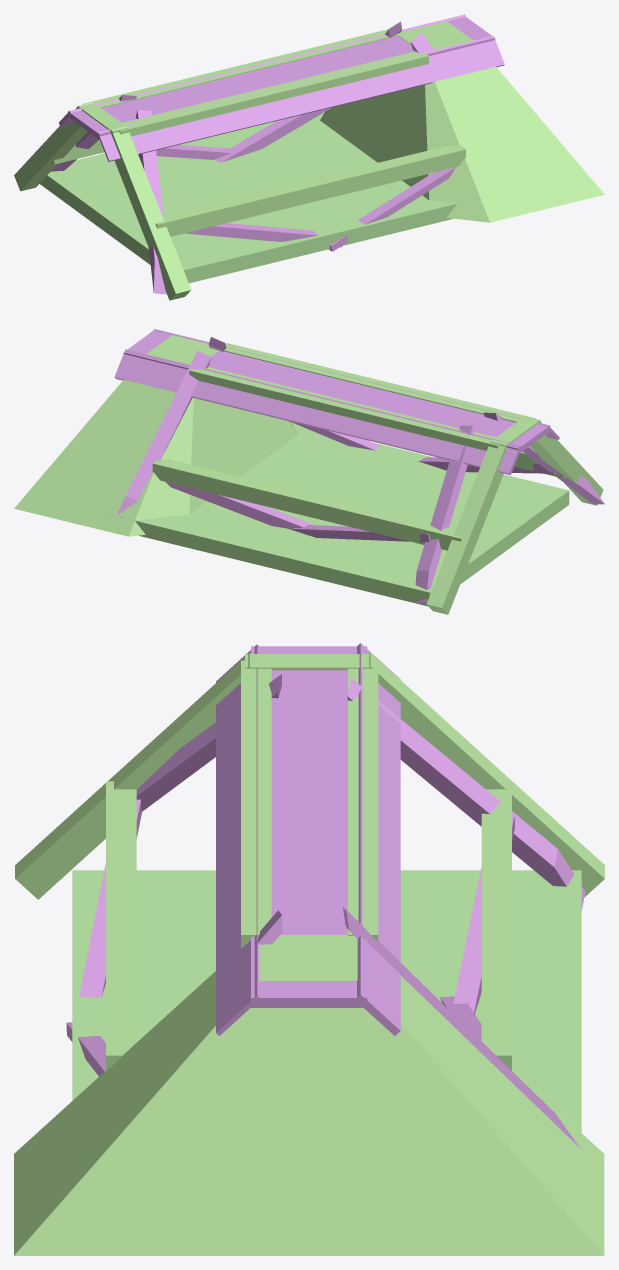
The model's file is camonettent.glb.
3 views of the same model, one above another, from view 1: azimuth 30°, elevation 25°; view 2: azimuth 150°, elevation 25°; view 3: azimuth 270°, elevation 25° (orthographic). The views are drawn at different scales.
Parts seen in each view (by area): view 1: S4|SM_CamoNetTent_Stage4#0, S2|SM_CamoNetTent_Stage2#0, S5|SM_CamoNetTent_Stage5#0, S3|SM_CamoNetTent_Stage3#0; view 2: S4|SM_CamoNetTent_Stage4#0, S2|SM_CamoNetTent_Stage2#0, S5|SM_CamoNetTent_Stage5#0, S3|SM_CamoNetTent_Stage3#0; view 3: S4|SM_CamoNetTent_Stage4#0, S5|SM_CamoNetTent_Stage5#0, S2|SM_CamoNetTent_Stage2#0, S3|SM_CamoNetTent_Stage3#0.
Boxes of the visible parts, x1=… form: S4|SM_CamoNetTent_Stage4#0: x1=14, y1=21, x2=604, y2=300; S2|SM_CamoNetTent_Stage2#0: x1=39, y1=112, x2=456, y2=283; S5|SM_CamoNetTent_Stage5#0: x1=59, y1=14, x2=504, y2=161; S3|SM_CamoNetTent_Stage3#0: x1=51, y1=21, x2=455, y2=294; S4|SM_CamoNetTent_Stage4#0: x1=14, y1=335, x2=603, y2=614; S2|SM_CamoNetTent_Stage2#0: x1=105, y1=422, x2=569, y2=606; S5|SM_CamoNetTent_Stage5#0: x1=114, y1=329, x2=559, y2=475; S3|SM_CamoNetTent_Stage3#0: x1=117, y1=337, x2=604, y2=603; S4|SM_CamoNetTent_Stage4#0: x1=14, y1=653, x2=604, y2=1255; S5|SM_CamoNetTent_Stage5#0: x1=216, y1=643, x2=400, y2=1035; S2|SM_CamoNetTent_Stage2#0: x1=72, y1=870, x2=581, y2=1161; S3|SM_CamoNetTent_Stage3#0: x1=66, y1=674, x2=585, y2=1148.
Size of the model in its own units: 3.45 by 1.05 by 2.2.
